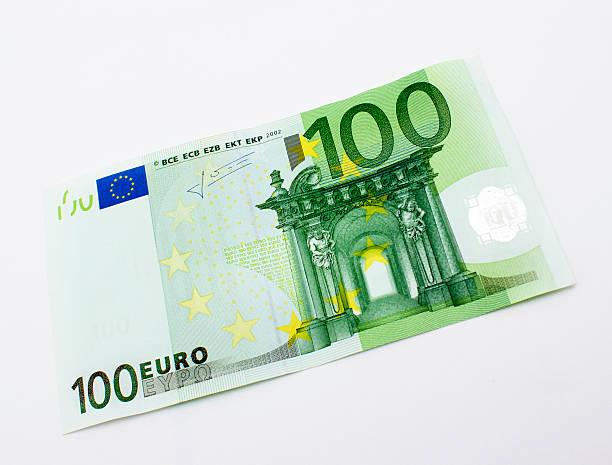euro_banknote: (27, 121, 550, 372)
